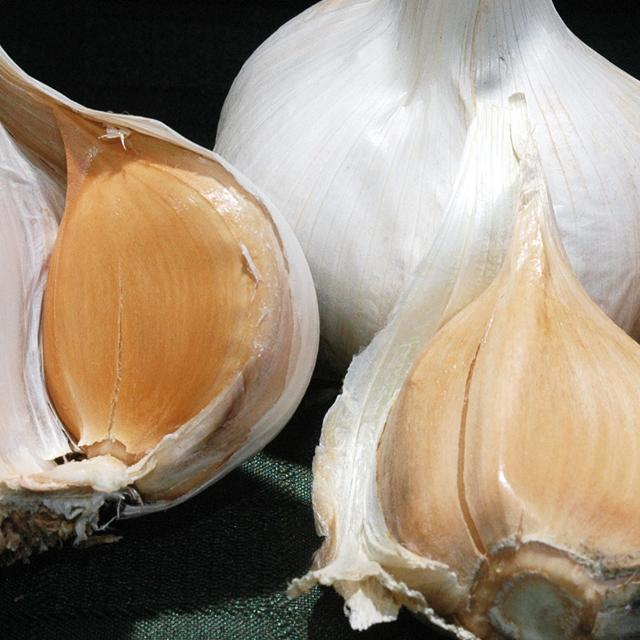garlic: (213, 0, 640, 434), (0, 28, 329, 562)
